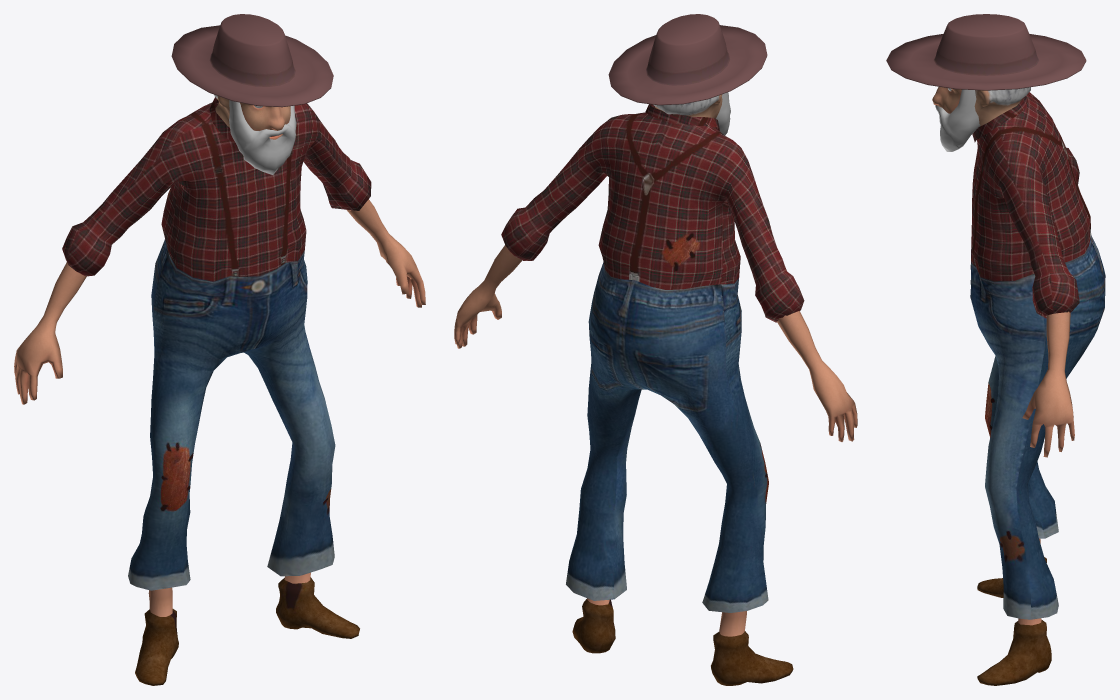
File: farmer02.fbx
The picture shows the model from 3 angles, left to right: view 1: azimuth 30°, elevation 25°; view 2: azimuth 150°, elevation 25°; view 3: azimuth 270°, elevation 25°; orthographic projection. The views are drawn at different scales.
Visible parts, largest first — view 1: farmer02, farmer02.001; view 2: farmer02; view 3: farmer02, farmer02.001.
Boxes of the visible parts, x1,y1,x2,y2 form: farmer02: (14, 14, 425, 685); farmer02.001: (229, 100, 296, 174); farmer02: (454, 14, 857, 685); farmer02: (886, 14, 1105, 685); farmer02.001: (935, 89, 980, 151).
Size of the model in its own units: 113 by 170 by 55.2.
